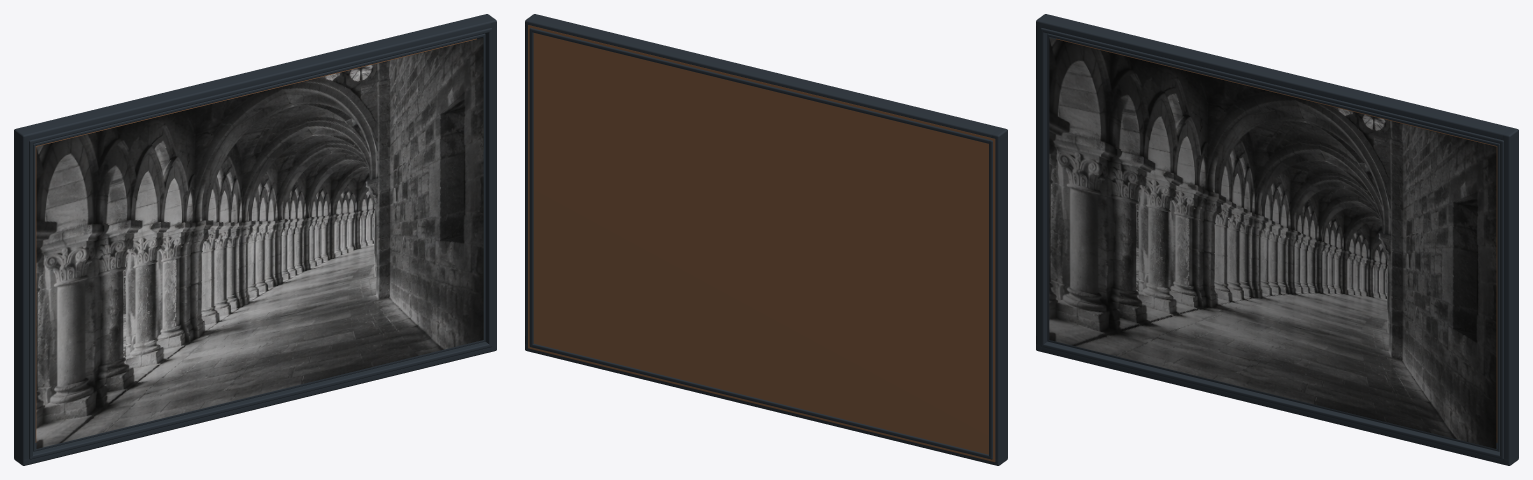
File: apartment-art-photo-3.glb
3 views of the same model, side by side, from view 1: azimuth 30°, elevation 25°; view 2: azimuth 150°, elevation 25°; view 3: azimuth 330°, elevation 25° (orthographic).
Visible parts, largest first — view 1: apartment-art-photo-3 authored assembly; view 2: apartment-art-photo-3 authored assembly; view 3: apartment-art-photo-3 authored assembly.
Part boxes in pixels (x1,y1,x2,y2): apartment-art-photo-3 authored assembly: (14, 14, 496, 465); apartment-art-photo-3 authored assembly: (525, 14, 1007, 465); apartment-art-photo-3 authored assembly: (1036, 14, 1518, 465).
Bounding box in the file's own units: 0.9 × 0.6 × 0.038.
3 materials, 1 textured.
